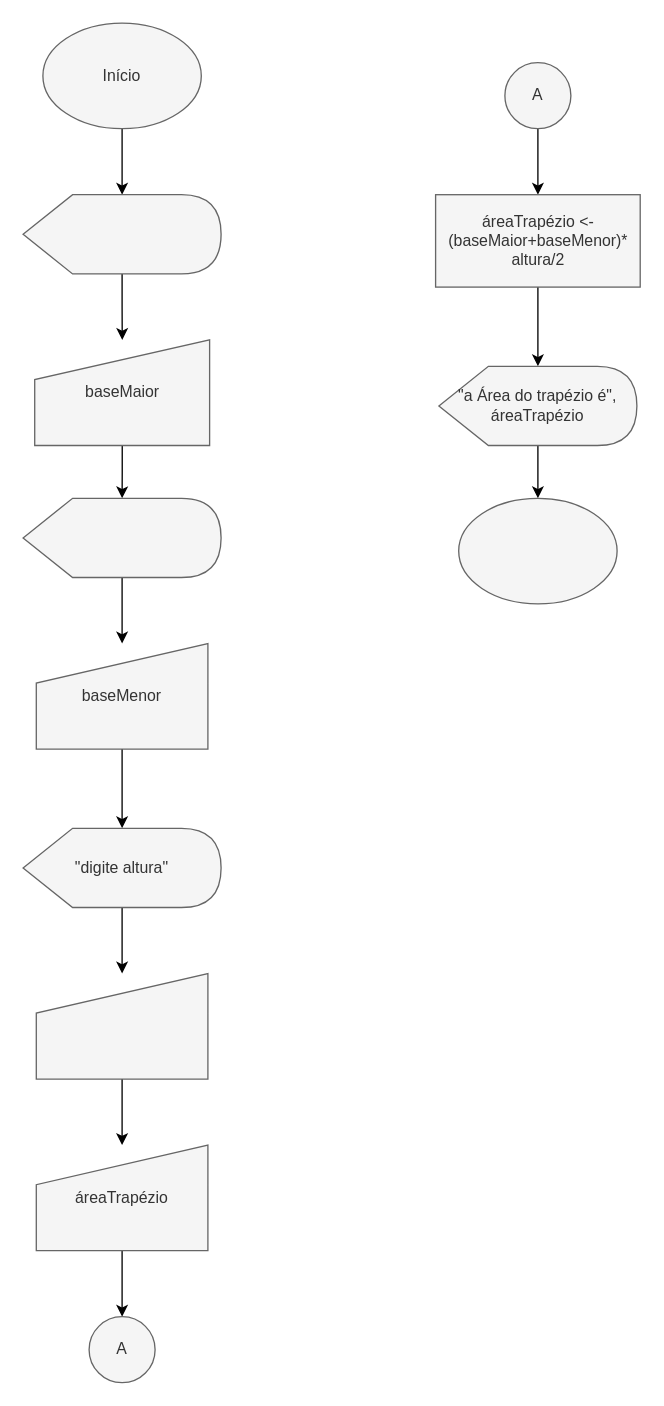
The diagram is 664 pixels wide and 1406 high, and some of its shapes have lost their labels. The centre of each missing label's shape, as x and y in pixels:
"digite baseMaior": (121,233)
"digite baseMenor": (121,537)
altura: (121,1025)
Fim: (537,550)
